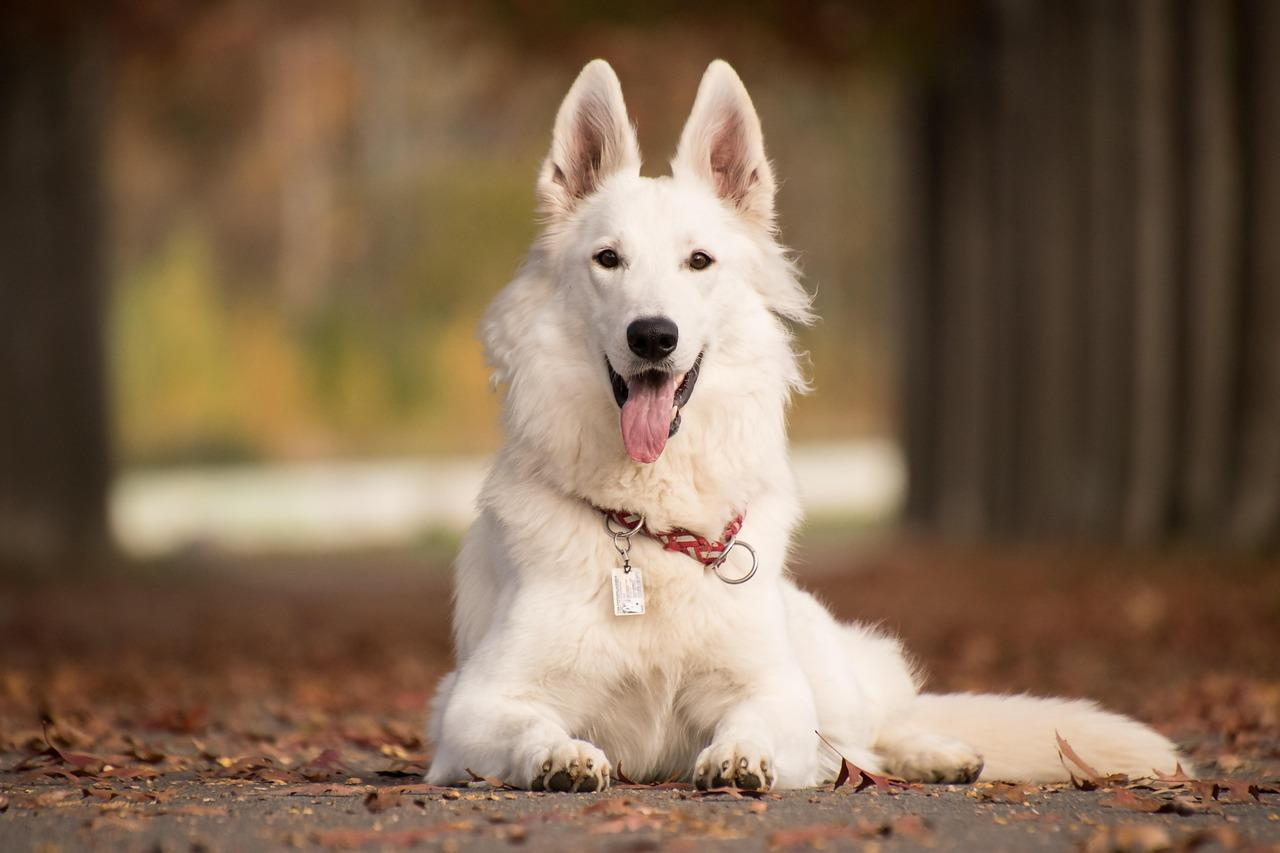german_shepherd: (504, 133, 816, 486)
